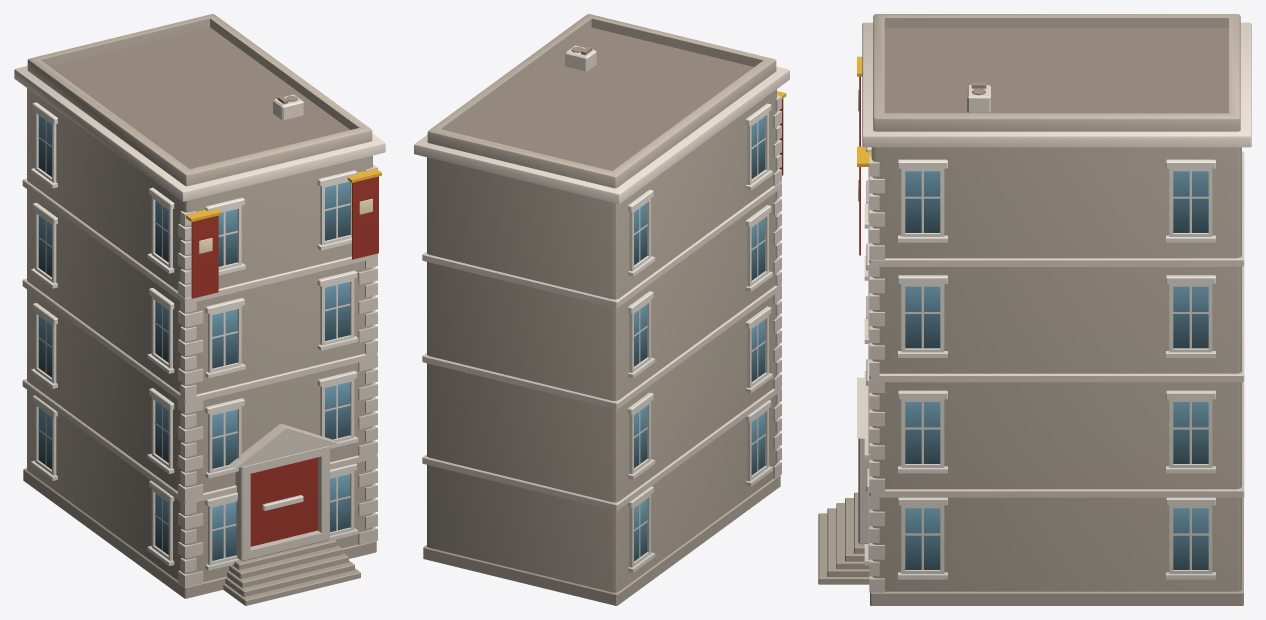
The model's file is tremont_e4.glb.
3 views of the same model, side by side, from view 1: azimuth 30°, elevation 25°; view 2: azimuth 150°, elevation 25°; view 3: azimuth 270°, elevation 25° (orthographic). The views are drawn at different scales.
Visible parts, largest first — view 1: tremont_e4; view 2: tremont_e4; view 3: tremont_e4.
Boxes of the visible parts, <box> form: tremont_e4: <box>14,14,385,605</box>; tremont_e4: <box>414,14,789,605</box>; tremont_e4: <box>818,14,1251,605</box>.
Size of the model in its own units: 9.14 by 18.48 by 14.62.
1 material, 1 textured.
